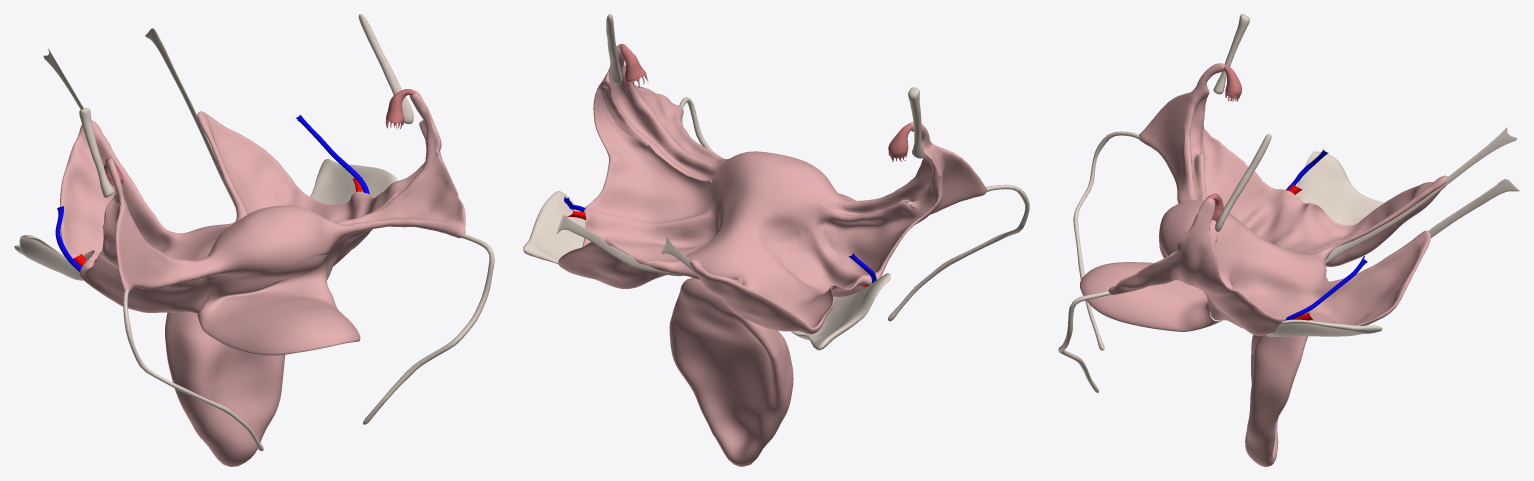
The model's file is 3d-vh-f-uterus-landmark.glb.
3 renders of one model, left to right at view 1: azimuth 30°, elevation 25°; view 2: azimuth 150°, elevation 25°; view 3: azimuth 270°, elevation 25°, orthographic. The views are drawn at different scales.
Visible parts, largest first — view 1: VH_F_uterus_landmark_ligaments_of_uterus_and_ovaries, VH_F_uterus_landmark_vagina, VH_F_uterus_landmark_fallopian_tube_L, VH_F_uterus_landmark_left_uterine_vein; view 2: VH_F_uterus_landmark_ligaments_of_uterus_and_ovaries, VH_F_uterus_landmark_vagina, VH_F_uterus_landmark_fallopian_tube_L, VH_F_uterus_landmark_fallopian_tube_R; view 3: VH_F_uterus_landmark_ligaments_of_uterus_and_ovaries, VH_F_uterus_landmark_vagina, VH_F_uterus_landmark_left_uterine_vein.
Part boxes in pixels (left/top/right/bottom): VH_F_uterus_landmark_ligaments_of_uterus_and_ovaries: left=14, top=14, right=494, bottom=451; VH_F_uterus_landmark_vagina: left=165, top=312, right=285, bottom=466; VH_F_uterus_landmark_fallopian_tube_L: left=385, top=89, right=415, bottom=129; VH_F_uterus_landmark_left_uterine_vein: left=296, top=114, right=369, bottom=194; VH_F_uterus_landmark_ligaments_of_uterus_and_ovaries: left=523, top=14, right=1029, bottom=350; VH_F_uterus_landmark_vagina: left=669, top=278, right=793, bottom=466; VH_F_uterus_landmark_fallopian_tube_L: left=619, top=44, right=648, bottom=89; VH_F_uterus_landmark_fallopian_tube_R: left=888, top=123, right=912, bottom=161; VH_F_uterus_landmark_ligaments_of_uterus_and_ovaries: left=1058, top=14, right=1519, bottom=392; VH_F_uterus_landmark_vagina: left=1245, top=276, right=1328, bottom=466; VH_F_uterus_landmark_left_uterine_vein: left=1285, top=256, right=1367, bottom=320.
Bounding box in the file's own units: 0.1471 × 0.159 × 0.1706.
